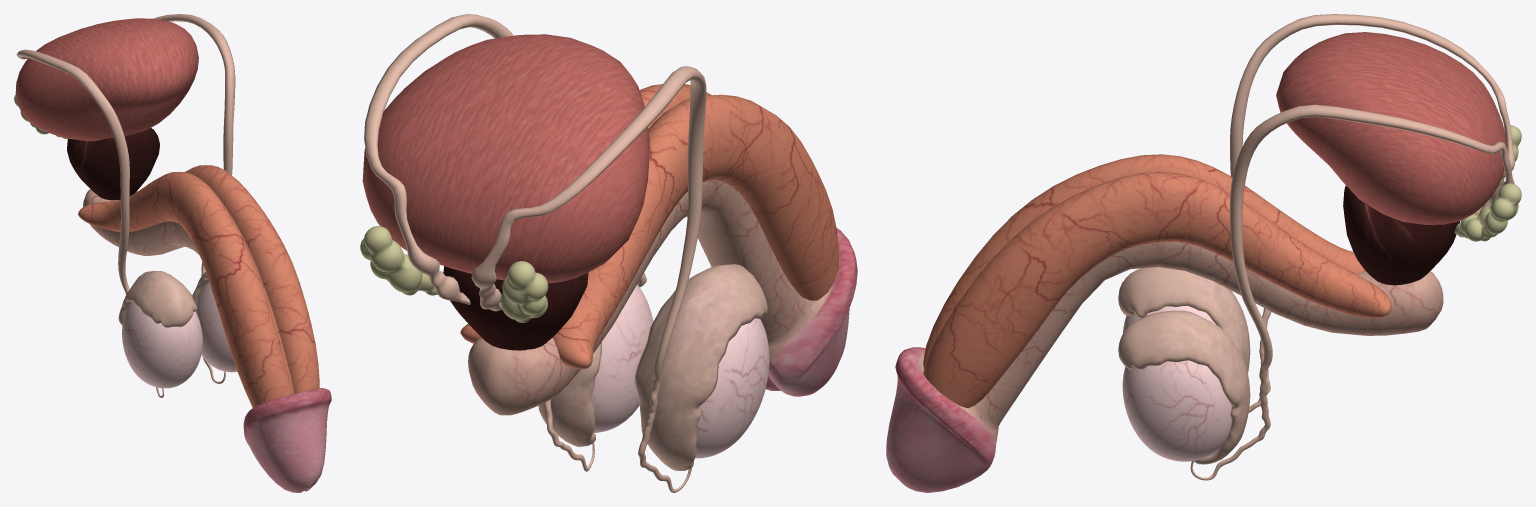
File: masc.FBX
3 views of the same model, side by side, from view 1: azimuth 30°, elevation 25°; view 2: azimuth 150°, elevation 25°; view 3: azimuth 270°, elevation 25° (orthographic). The views are drawn at different scales.
Visible parts, largest first — view 1: Ischiocavernosa, Bladder, Bulbospongiosum, Testes, Vasa deferentii, Prostate, Epididymi; view 2: Bladder, Ischiocavernosa, Bulbospongiosum, Vasa deferentii, Epididymi, Testes, Prostate, Seminal vesicles; view 3: Ischiocavernosa, Bladder, Bulbospongiosum, Epididymi, Vasa deferentii, Testes, Prostate, Seminal vesicles.
Boxes of the visible parts, bbox=[...] form: Ischiocavernosa: bbox=[78, 165, 319, 407]; Bladder: bbox=[15, 18, 198, 141]; Bulbospongiosum: bbox=[83, 189, 331, 492]; Testes: bbox=[122, 281, 237, 388]; Vasa deferentii: bbox=[16, 14, 235, 397]; Prostate: bbox=[67, 128, 159, 200]; Epididymi: bbox=[118, 271, 208, 327]; Bladder: bbox=[362, 34, 649, 283]; Ischiocavernosa: bbox=[460, 84, 838, 369]; Bulbospongiosum: bbox=[468, 180, 857, 415]; Vasa deferentii: bbox=[364, 14, 706, 492]; Epididymi: bbox=[538, 264, 767, 470]; Testes: bbox=[592, 284, 769, 458]; Prostate: bbox=[443, 266, 588, 350]; Seminal vesicles: bbox=[360, 226, 548, 322]; Ischiocavernosa: bbox=[923, 154, 1391, 408]; Bladder: bbox=[1276, 32, 1506, 224]; Bulbospongiosum: bbox=[886, 241, 1443, 492]; Epididymi: bbox=[1118, 267, 1250, 464]; Vasa deferentii: bbox=[1190, 14, 1514, 480]; Testes: bbox=[1122, 306, 1231, 461]; Prostate: bbox=[1343, 186, 1460, 285]; Seminal vesicles: bbox=[1454, 125, 1521, 241].
Bounding box in the file's own units: 26.8 × 51.56 × 67.66.
